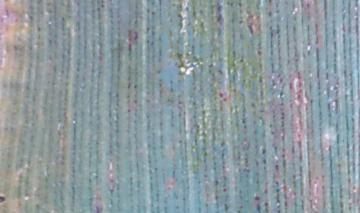tarspot: (125, 27, 134, 54), (246, 21, 257, 35), (217, 90, 228, 104), (216, 12, 224, 26), (215, 1, 224, 13), (254, 200, 262, 213), (1, 192, 8, 203), (133, 29, 139, 41), (263, 201, 269, 213), (99, 1, 107, 10), (125, 80, 133, 89), (125, 106, 133, 114), (252, 194, 261, 201), (273, 162, 280, 171), (215, 68, 224, 75), (260, 145, 266, 155), (299, 1, 305, 11), (238, 56, 245, 64), (132, 82, 138, 91), (256, 49, 263, 56), (132, 97, 139, 104), (305, 1, 311, 9), (151, 9, 157, 16), (145, 7, 151, 14), (267, 10, 272, 18), (36, 25, 41, 32), (266, 1, 273, 5)
